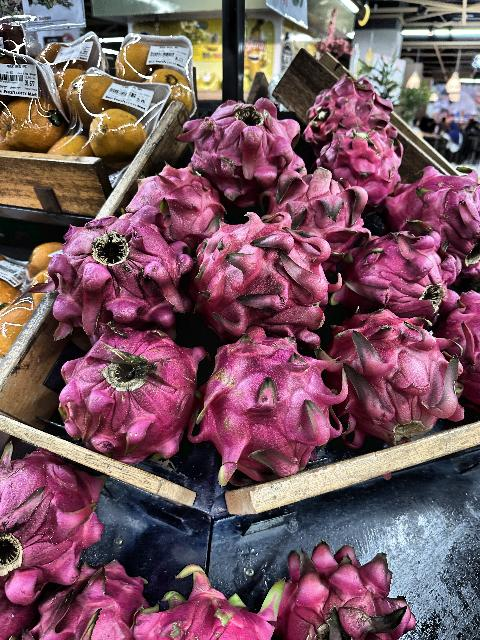buah-naga-matang: (50, 317, 202, 457), (207, 324, 345, 474), (46, 210, 196, 340), (324, 303, 468, 435), (198, 210, 340, 340), (0, 438, 106, 592), (262, 534, 416, 640), (132, 560, 288, 640), (178, 96, 300, 198), (338, 222, 460, 320), (264, 158, 372, 260), (386, 158, 480, 268), (39, 554, 147, 640), (123, 166, 229, 244), (317, 118, 409, 196), (306, 68, 394, 140)
